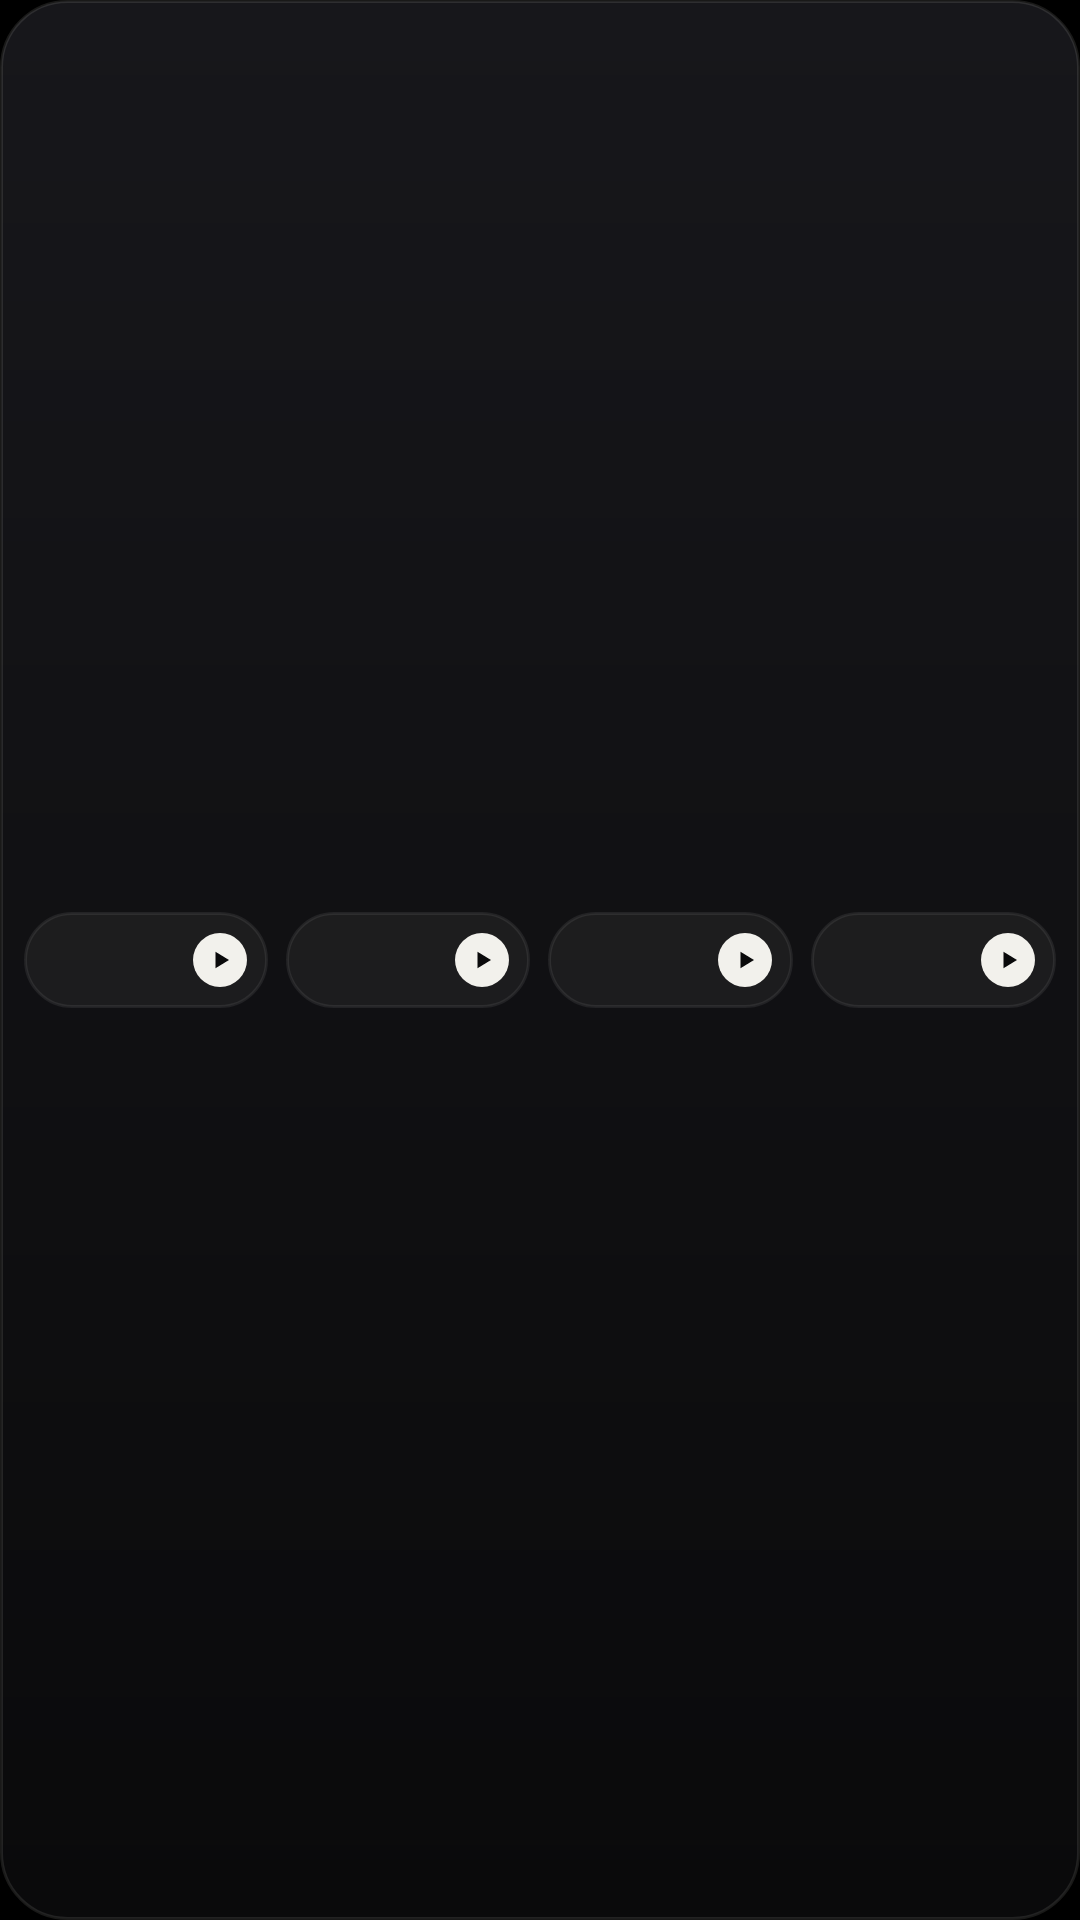

Screen size 1080 × 1920. Icon name, then its box in pixels as (x1, y1, x2, y2):
widget run: (193, 933, 247, 987), (455, 933, 509, 987), (718, 933, 772, 987), (981, 933, 1035, 987)
